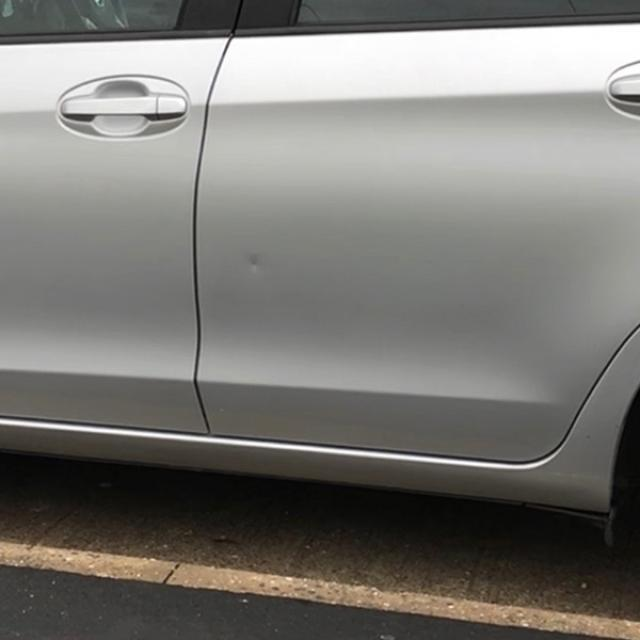Dent: (233, 239, 273, 289)
